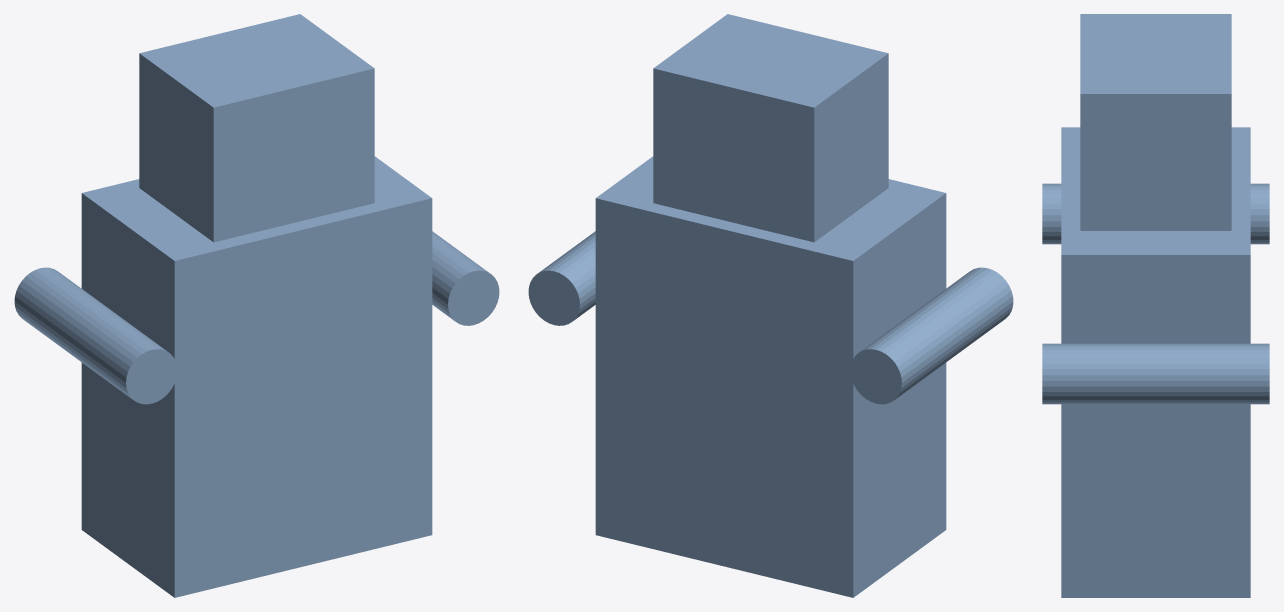
The picture shows the model from 3 angles, left to right: view 1: azimuth 30°, elevation 25°; view 2: azimuth 150°, elevation 25°; view 3: azimuth 270°, elevation 25°; orthographic projection.
Visible parts, largest first — view 1: world; view 2: world; view 3: world.
Part boxes in pixels (<box>): world: <box>14,14,499,597</box>; world: <box>528,14,1013,597</box>; world: <box>1042,14,1269,597</box>.
Bounding box in the file's own units: 1.16 × 1.4 × 0.6.
